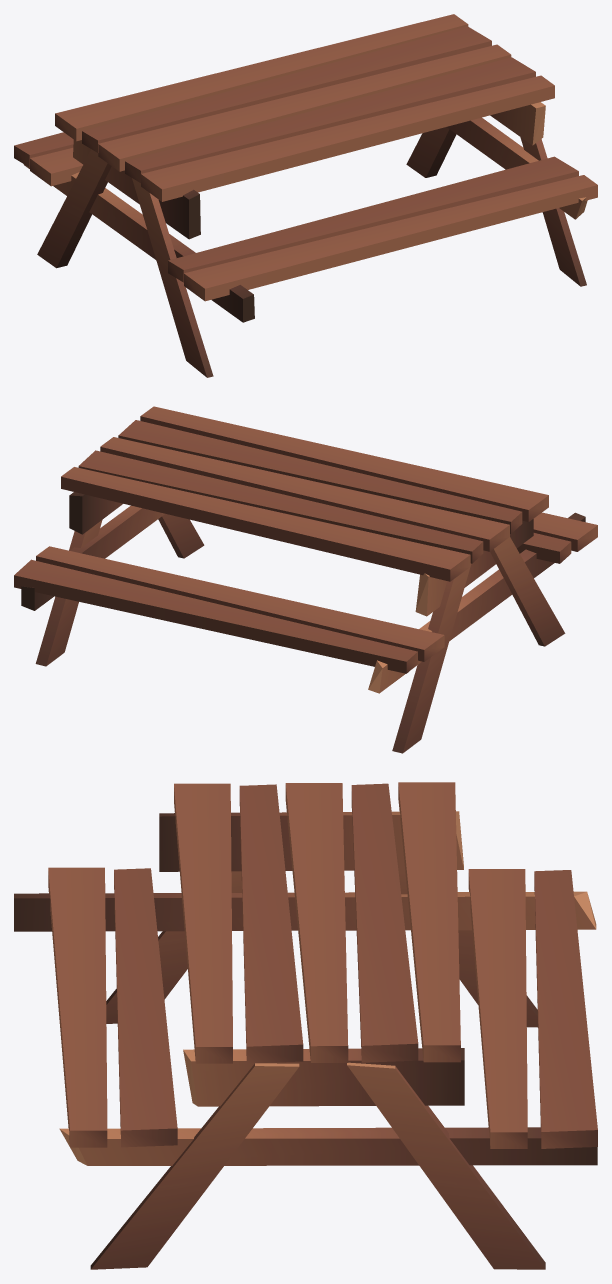
File: bench_picnic.fbx
The picture shows the model from 3 angles, top to bottom: view 1: azimuth 30°, elevation 25°; view 2: azimuth 150°, elevation 25°; view 3: azimuth 270°, elevation 25°; orthographic projection. The views are drawn at different scales.
Parts seen in each view (by area): view 1: Bench_Picnic; view 2: Bench_Picnic; view 3: Bench_Picnic.
Part boxes in pixels (bbox=[...]): Bench_Picnic: bbox=[14, 14, 597, 377]; Bench_Picnic: bbox=[14, 406, 597, 753]; Bench_Picnic: bbox=[14, 782, 597, 1269].
Size of the model in its own units: 169 by 67.52 by 157.
